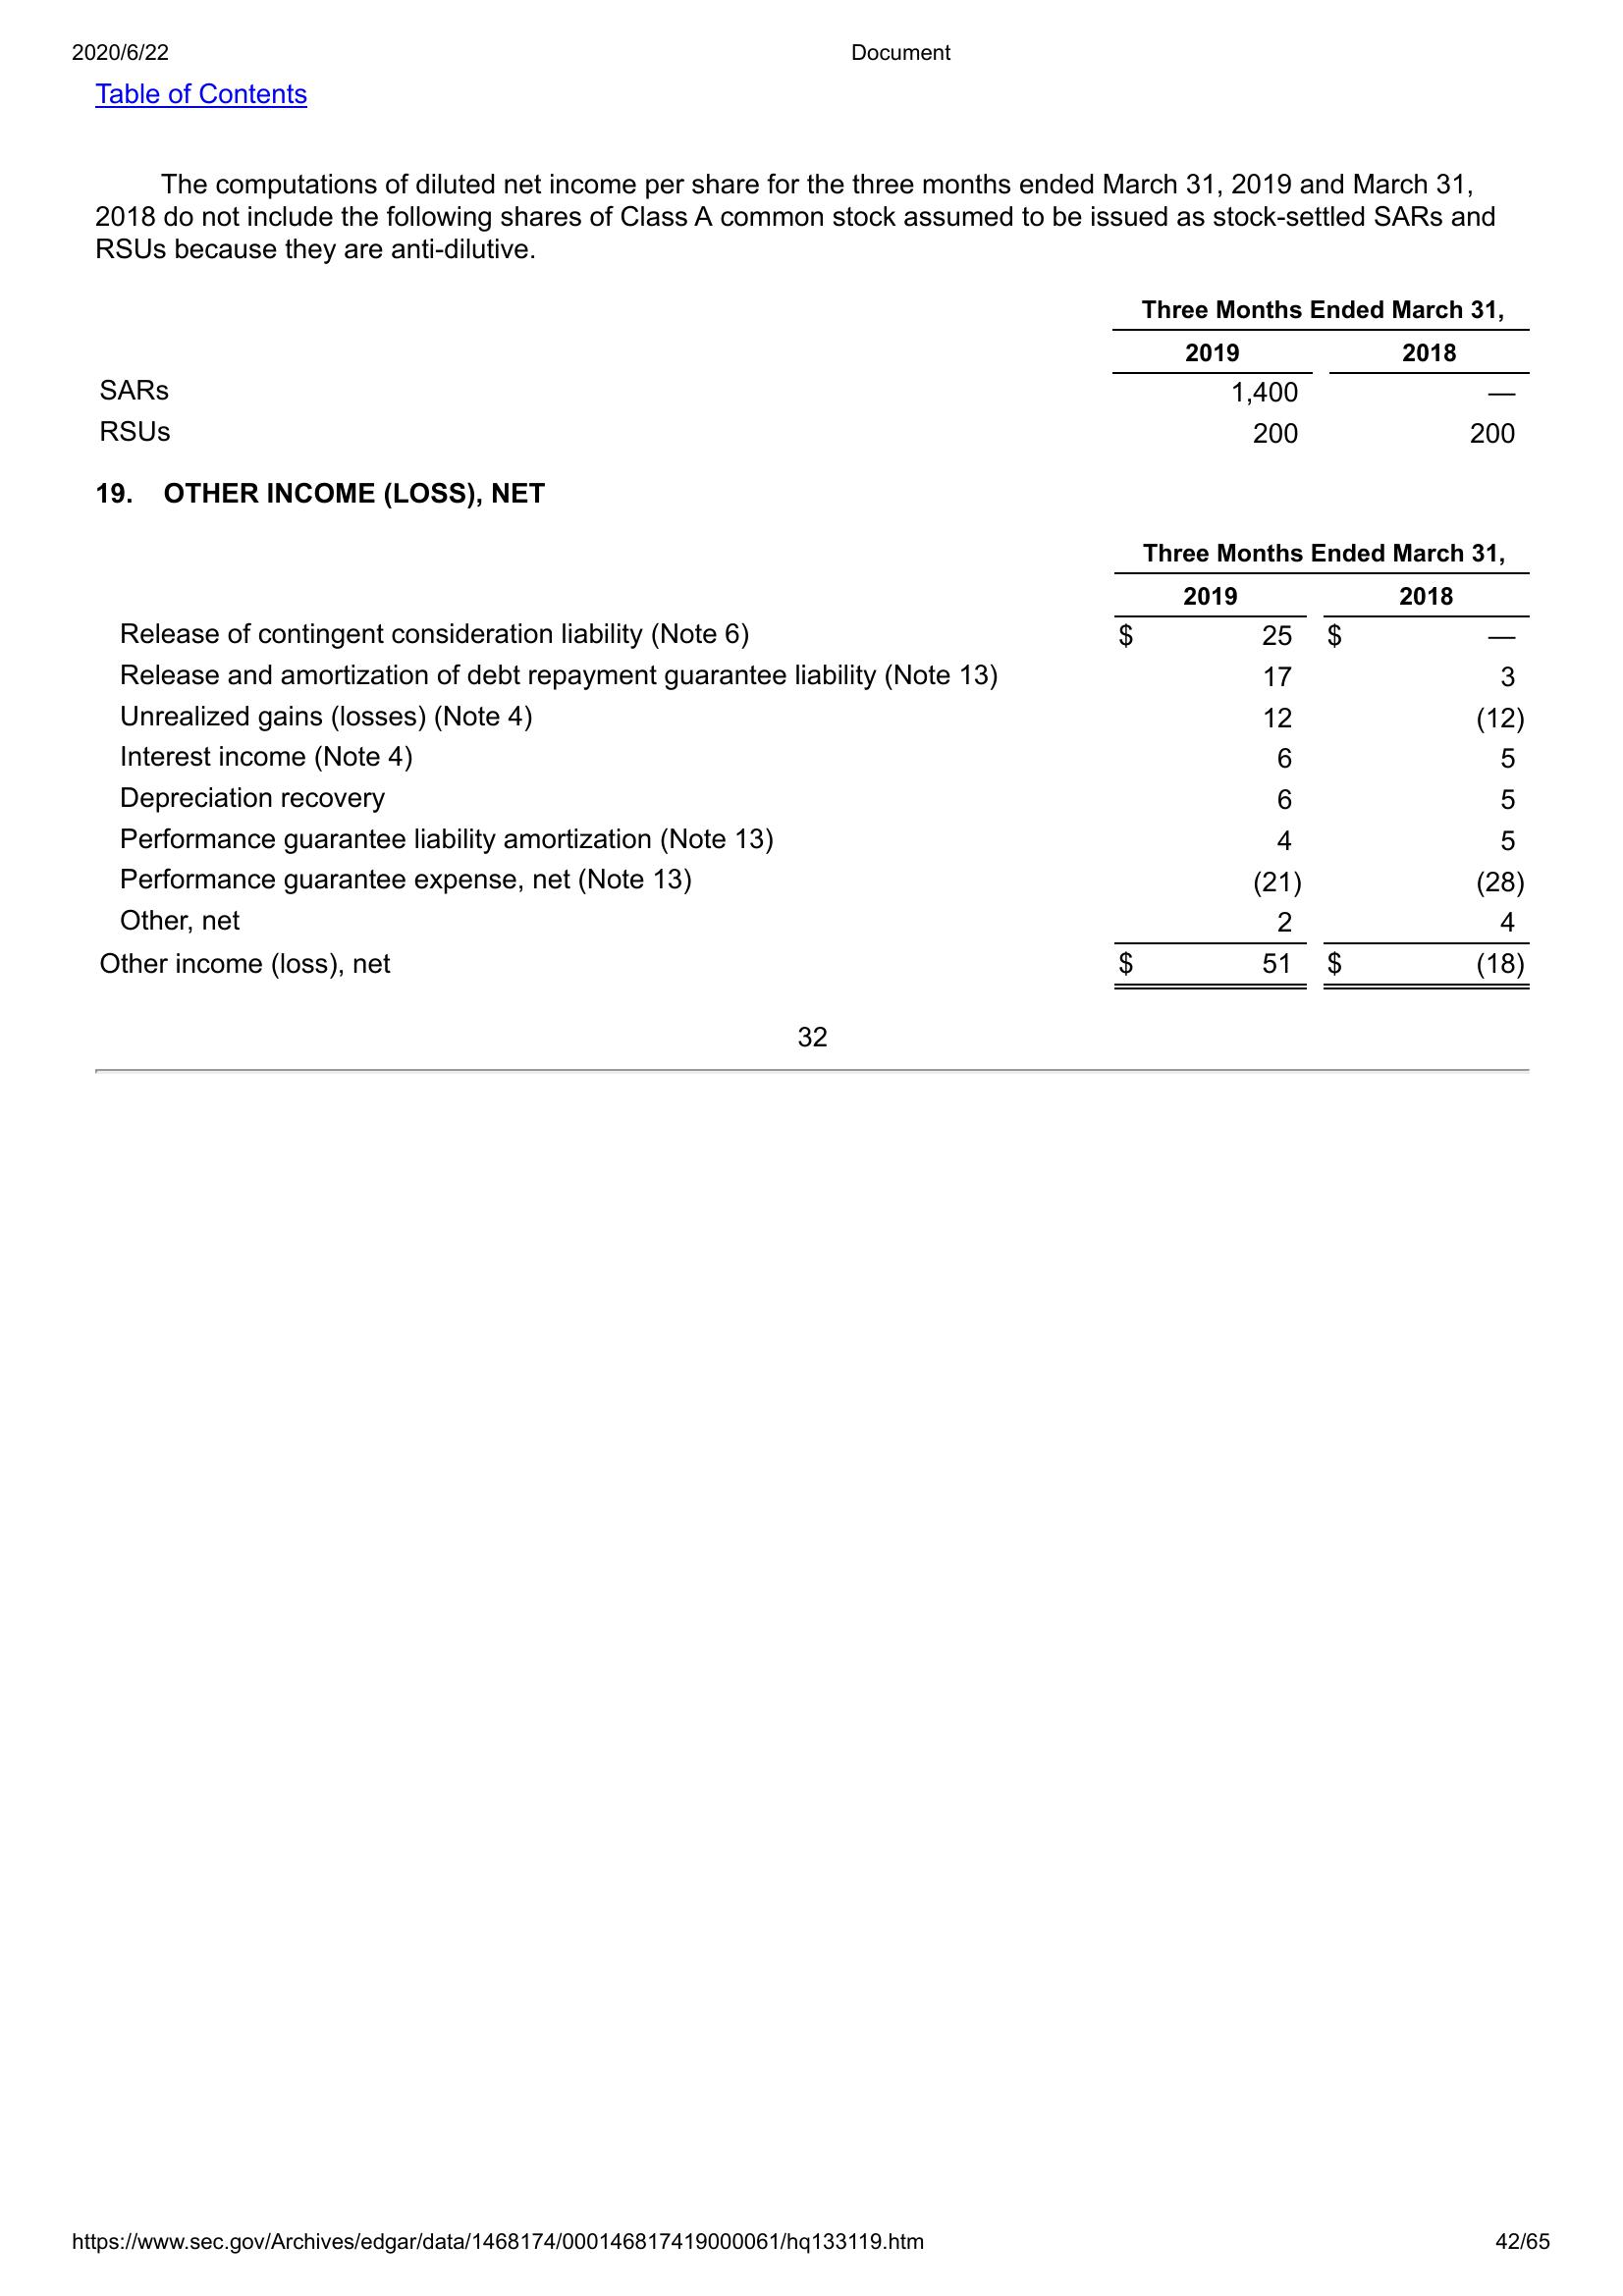table: (97, 539, 1535, 1001), (90, 286, 1546, 455)
